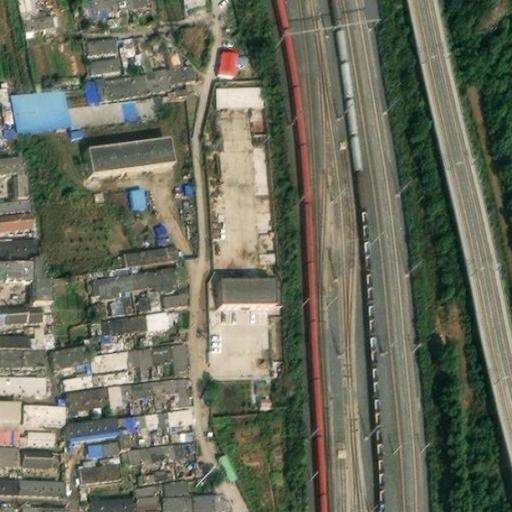building: (83, 27, 147, 73), (85, 135, 168, 170), (69, 89, 154, 123), (12, 82, 72, 128), (87, 64, 151, 98), (21, 398, 64, 442), (98, 304, 170, 329), (147, 55, 201, 85), (116, 408, 161, 441), (221, 269, 278, 295), (77, 448, 123, 480), (4, 472, 72, 493), (107, 378, 156, 407), (61, 364, 129, 383), (157, 404, 194, 437), (153, 338, 189, 371), (90, 267, 134, 293), (216, 78, 265, 101), (137, 282, 189, 303), (85, 344, 128, 369), (0, 306, 51, 327), (126, 341, 156, 376), (153, 374, 188, 404), (69, 412, 118, 433), (125, 240, 179, 258), (131, 262, 175, 284), (90, 490, 134, 512), (218, 43, 250, 73), (22, 441, 64, 463), (149, 436, 197, 455), (80, 0, 150, 13), (132, 479, 161, 510), (163, 476, 191, 508), (190, 484, 231, 505), (67, 383, 109, 403), (6, 499, 72, 511), (20, 6, 56, 27), (92, 295, 134, 313), (51, 341, 86, 362), (85, 434, 120, 452), (120, 441, 151, 458), (137, 465, 171, 478), (130, 182, 146, 203), (156, 219, 170, 242)
